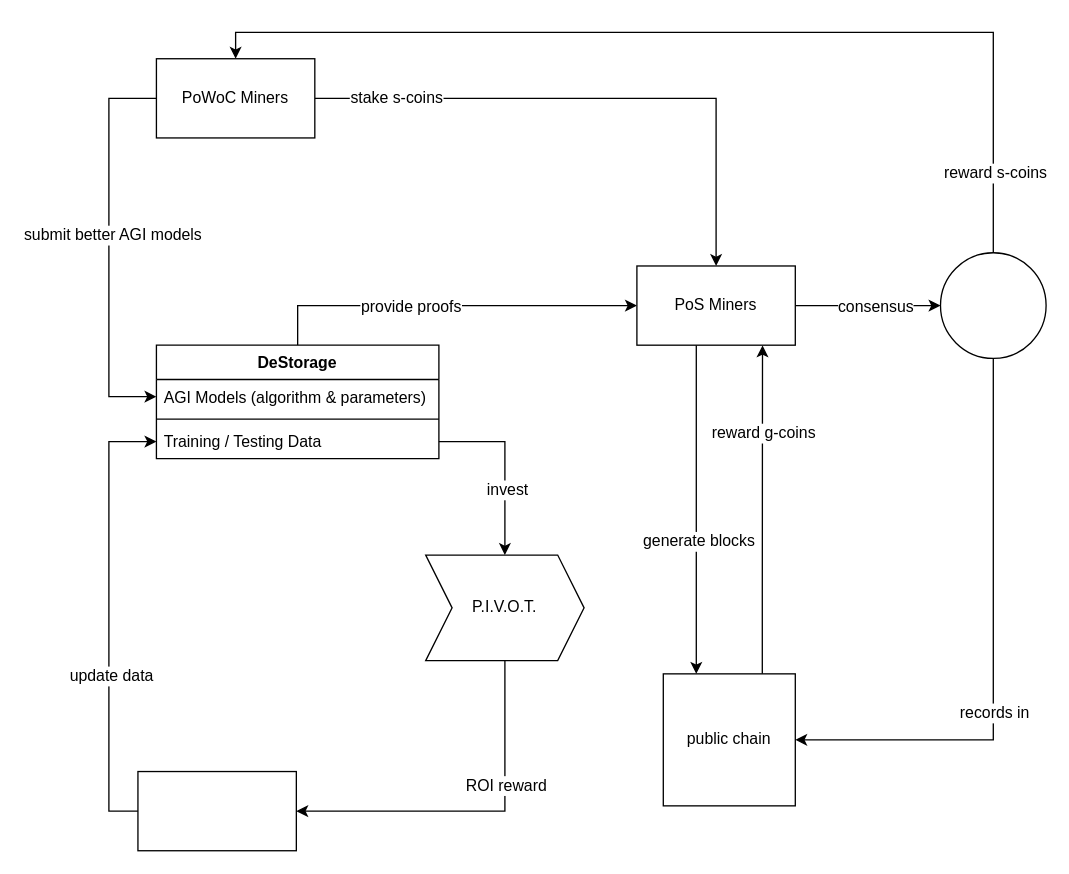
The diagram is 1069 pixels wide and 874 high, and some of its shapes have lost their labels. The centre of each missing label's shape, as x and y in pixels:
c(t) of the foundation model: [992,304]
World Universities: [216,810]
